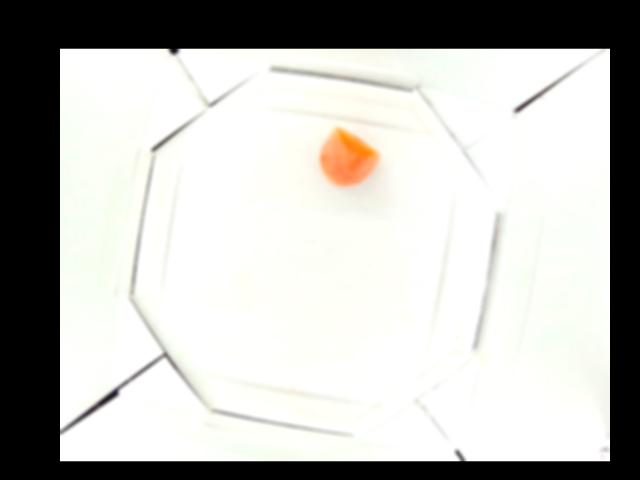Carrot: (318, 126, 377, 184)
